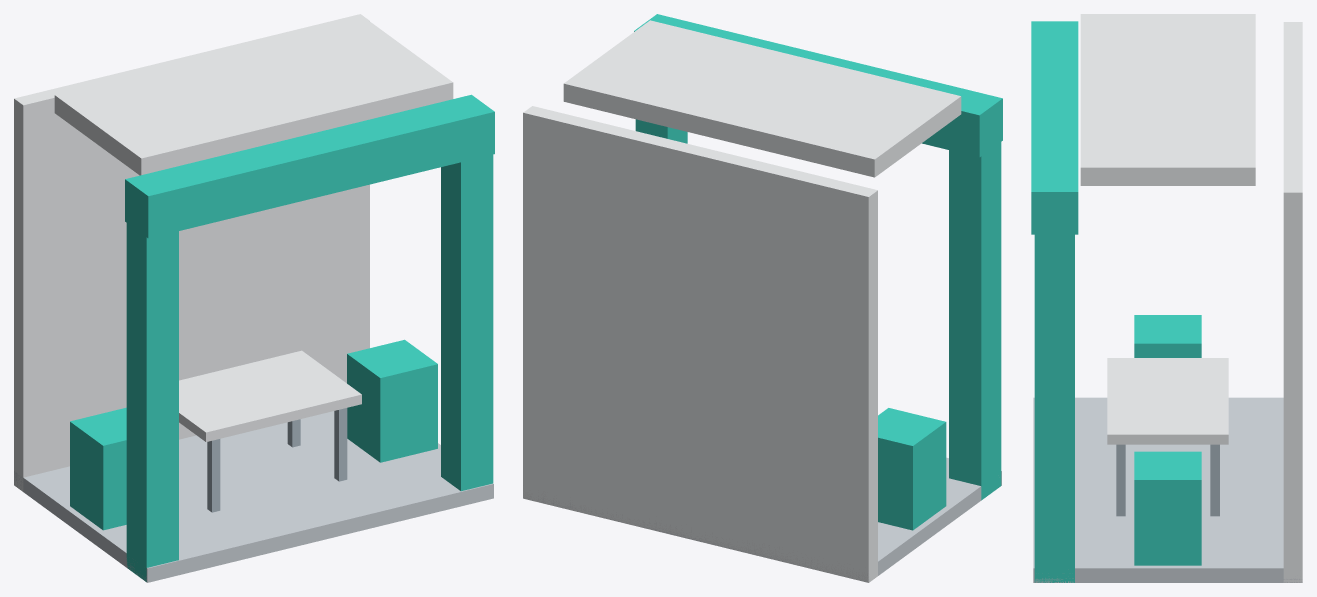
The picture shows the model from 3 angles, left to right: view 1: azimuth 30°, elevation 25°; view 2: azimuth 150°, elevation 25°; view 3: azimuth 270°, elevation 25°; orthographic projection.
Parts seen in each view (by area): view 1: Exhibition Booth Concept; view 2: Exhibition Booth Concept; view 3: Exhibition Booth Concept.
Boxes of the visible parts, box(x1,y1,x2,y2) form: Exhibition Booth Concept: box(14, 14, 494, 582); Exhibition Booth Concept: box(523, 14, 1002, 582); Exhibition Booth Concept: box(1031, 14, 1302, 582).
Bounding box in the file's own units: 3 × 3.34 × 2.01.
